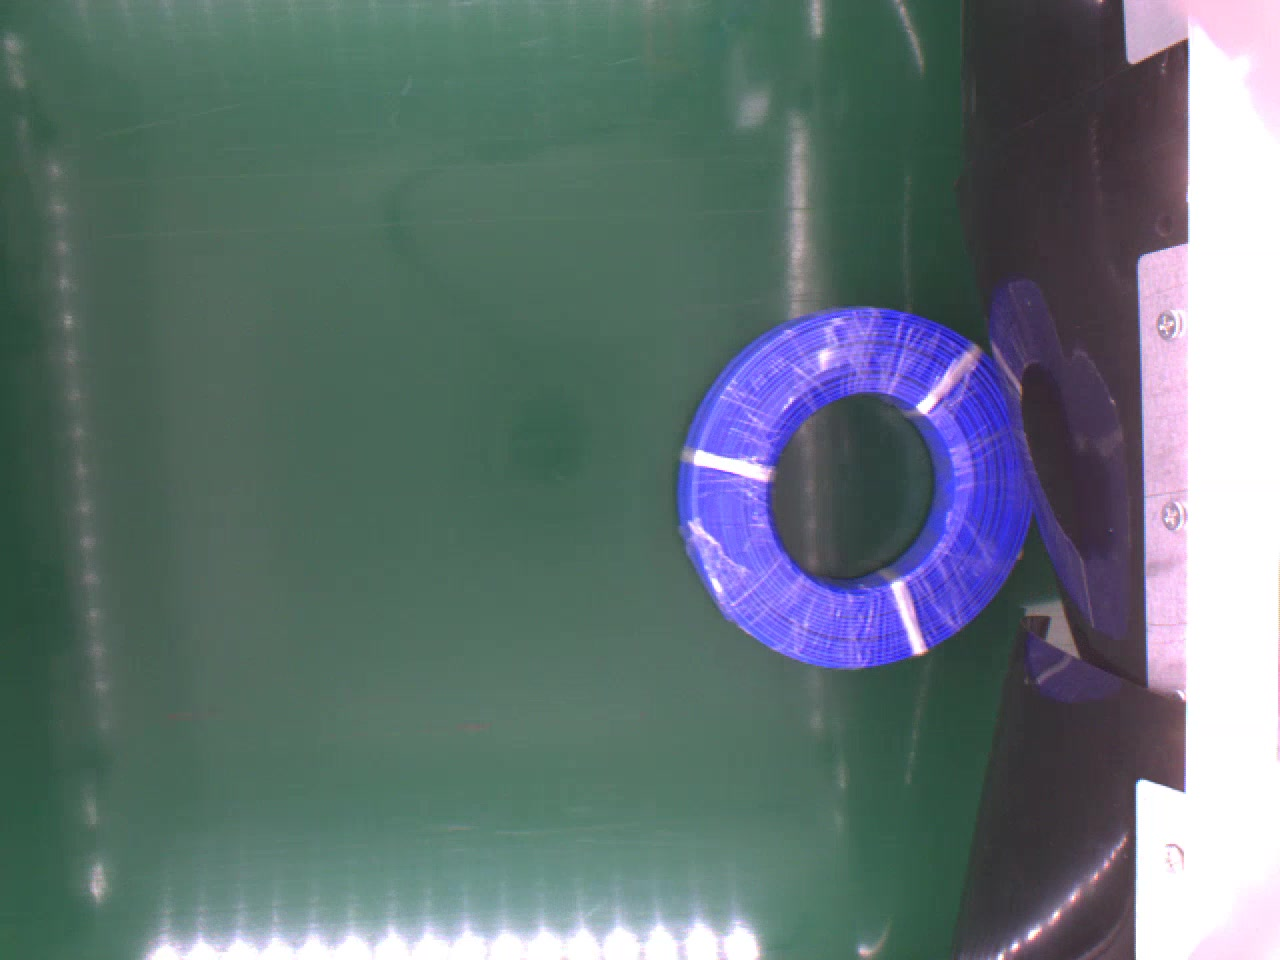blue: (674, 304, 1036, 667)
